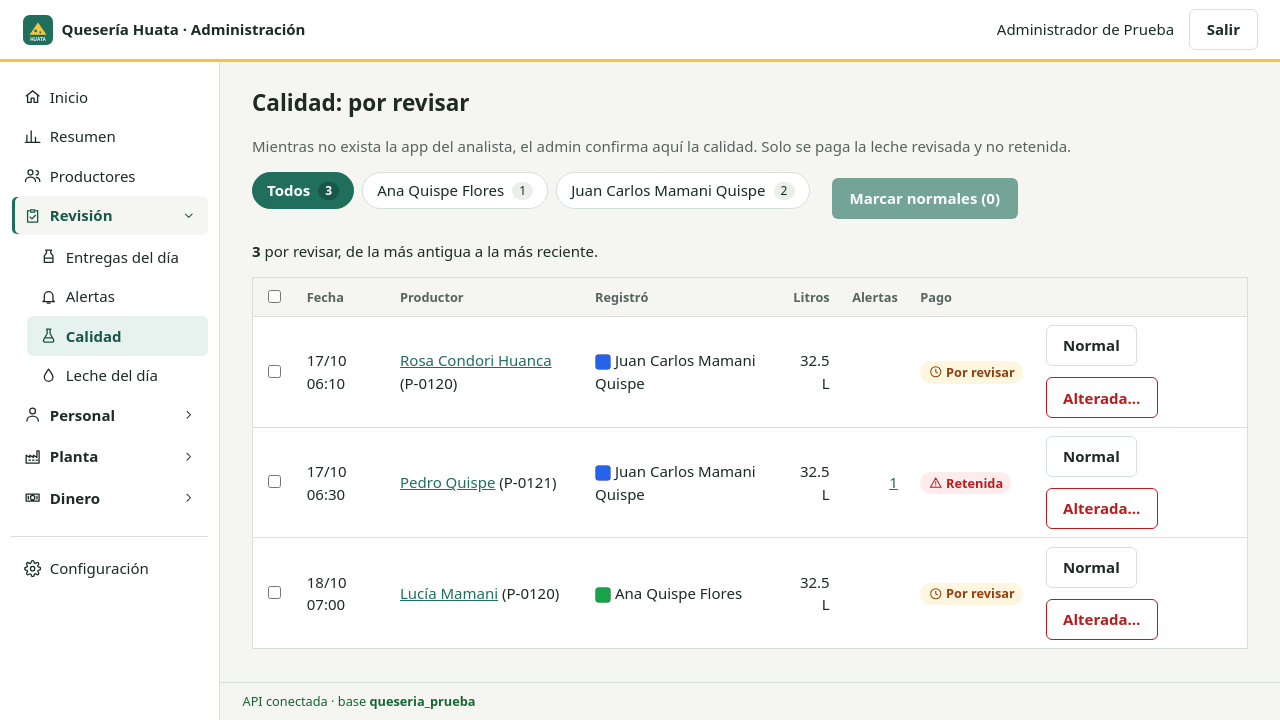
Scenario: calidad: por revisar › marcar normales: confirma qué pasa, revisa una por una con estado normal y las quita de la lista
Check: the link "Rosa Condori Huanca" is shown, box x1=400 y1=350 x2=552 y2=370
Check: the button "Marcar normales (0)" is disabled, box x1=832 y1=178 x2=1018 y2=219
Click the checkbox named "Seleccionar Rosa Condori Huanca" at (275, 371), box x1=268 y1=364 x2=281 y2=378
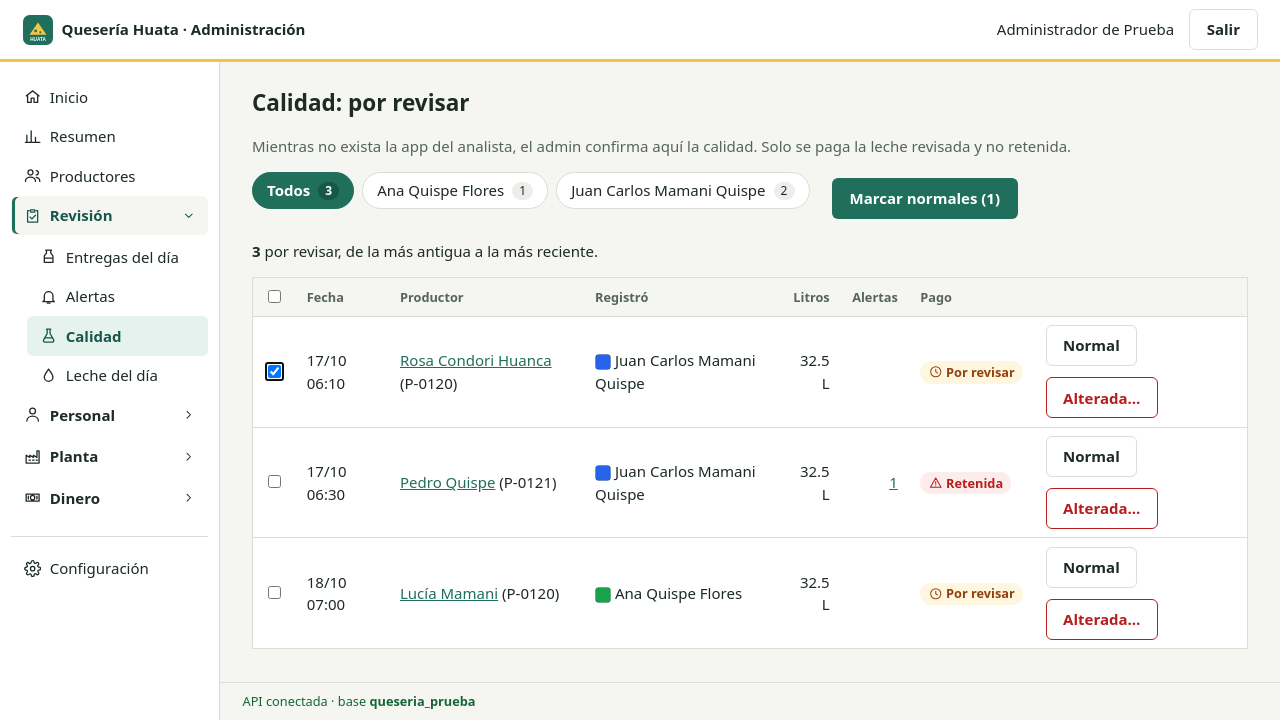
Click the checkbox named "Seleccionar Pedro Quispe" at (275, 482), box x1=268 y1=475 x2=281 y2=488
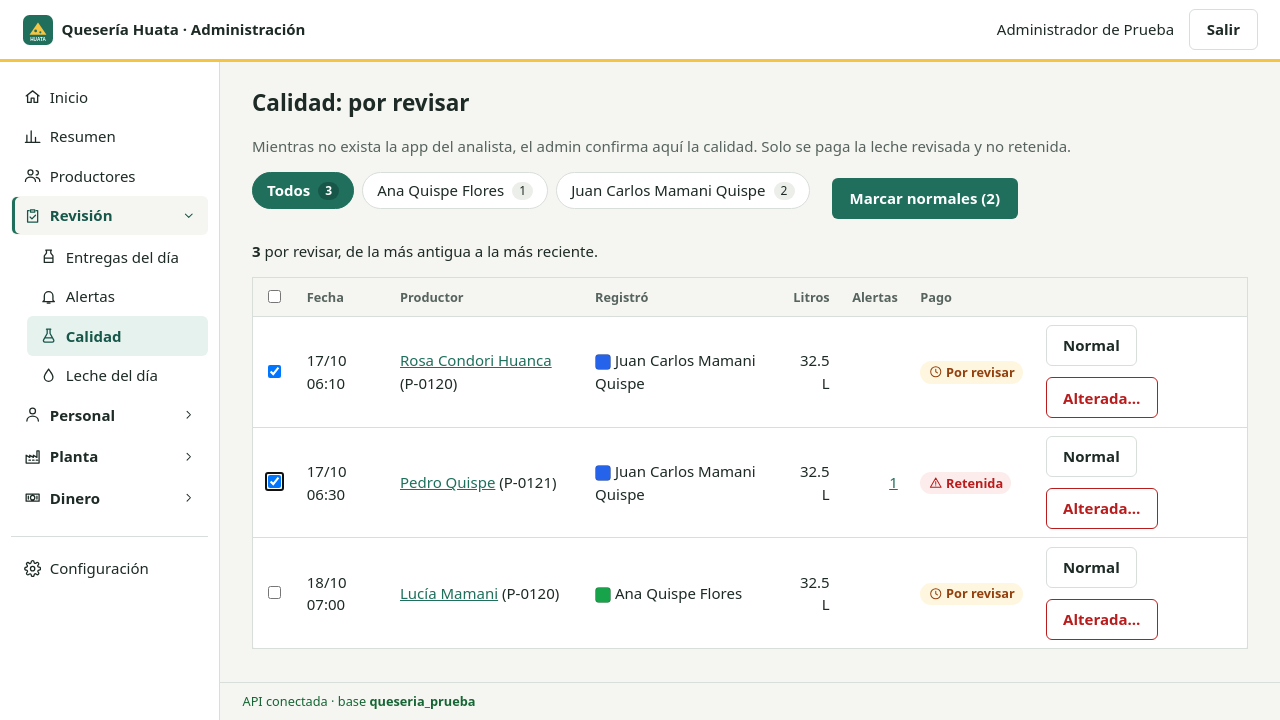
Click the button "Marcar normales (2)" at (925, 198), box x1=832 y1=178 x2=1018 y2=219
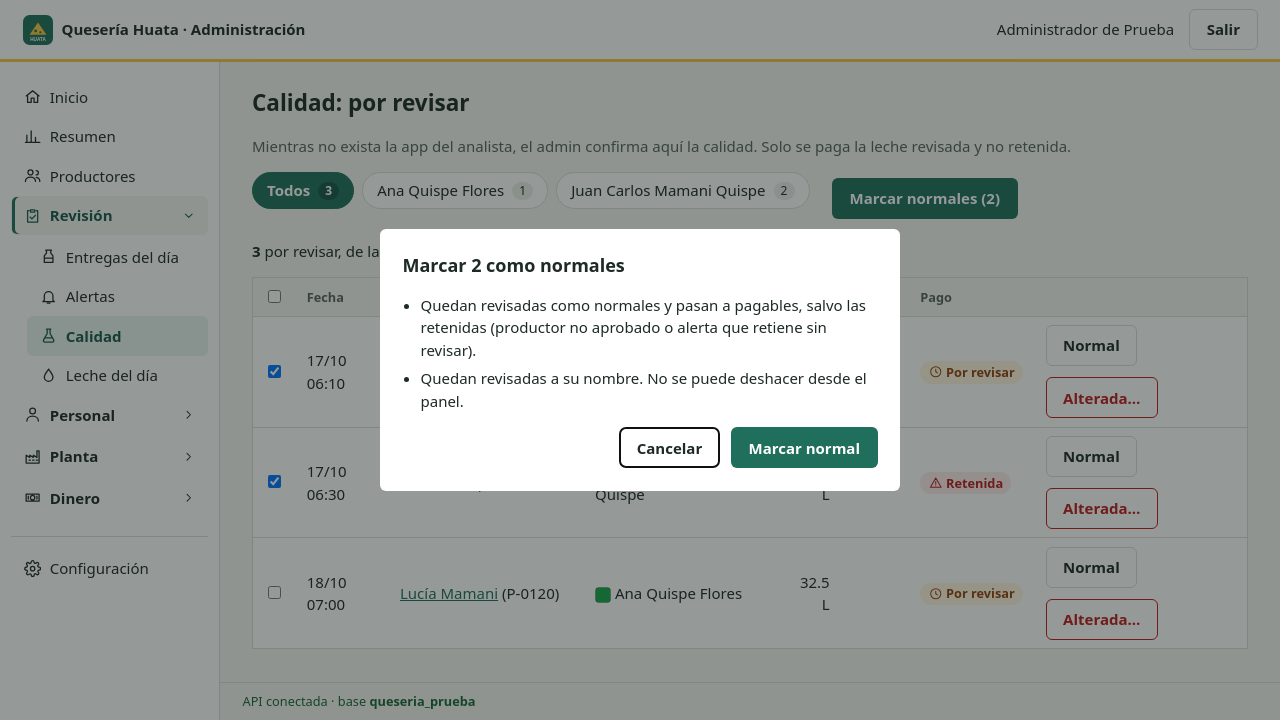
Check: the dialog "Marcar 2 como normales" shows "pasan a pagables, salvo las retenidas (productor no aprobado o alerta que retiene sin revisar)", box x1=420 y1=295 x2=866 y2=360
Check: the dialog "Marcar 2 como normales" shows "No se puede deshacer desde el panel.", box x1=420 y1=368 x2=867 y2=411
Click the button "Marcar normal" at (804, 448), box x1=731 y1=427 x2=878 y2=468
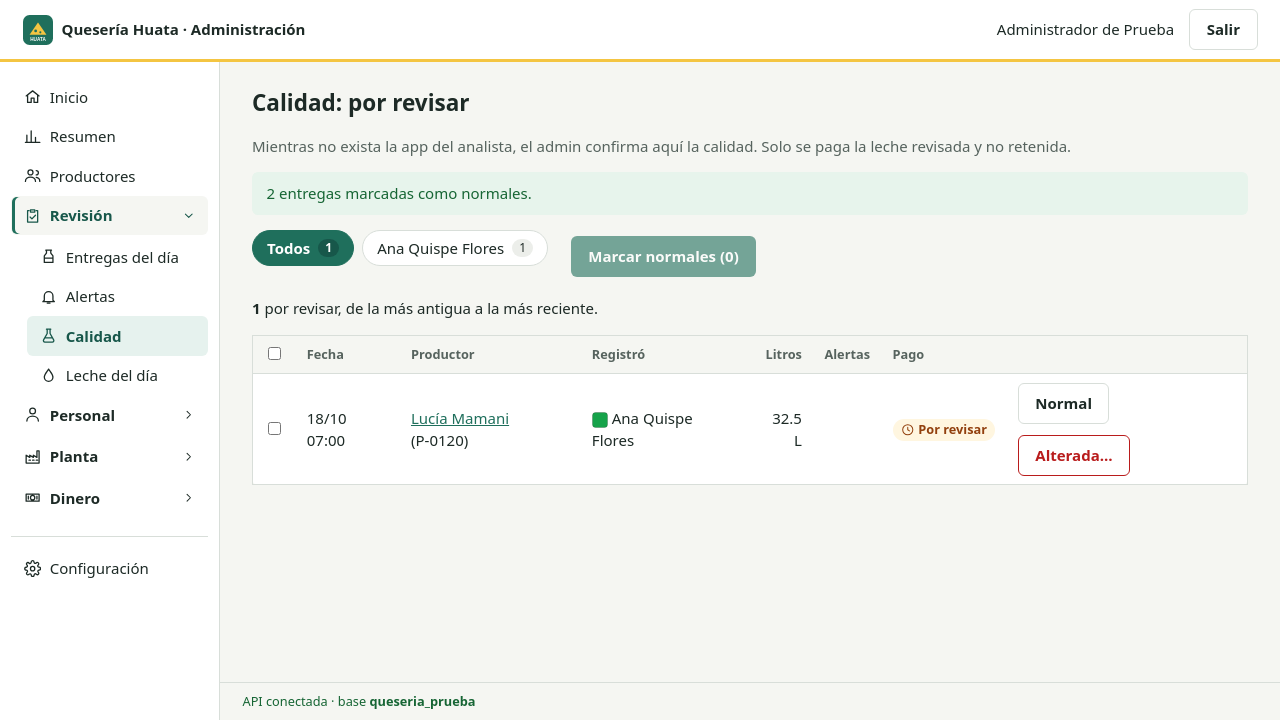
Check: the dialog is gone
Check: the message reads "2 entregas marcadas como normales.", box x1=266 y1=183 x2=532 y2=203
